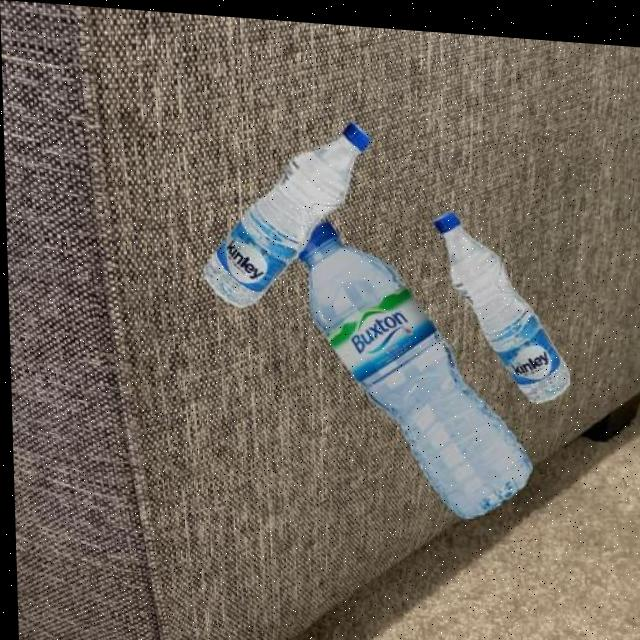bottle: (292, 209, 532, 517), (195, 105, 375, 313), (429, 201, 569, 398)
